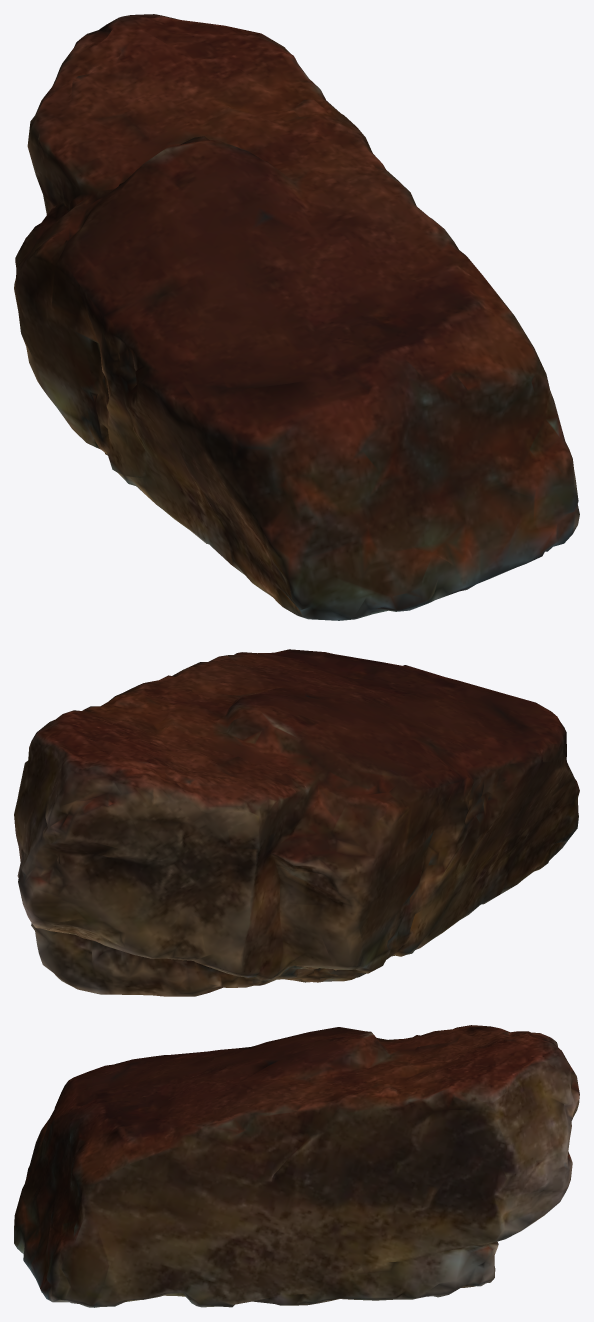
Rendered from rock_07.glb.
The picture shows the model from 3 angles, top to bottom: view 1: azimuth 30°, elevation 25°; view 2: azimuth 150°, elevation 25°; view 3: azimuth 270°, elevation 25°; orthographic projection. The views are drawn at different scales.
Parts seen in each view (by area): view 1: rock_07; view 2: rock_07; view 3: rock_07.
Boxes of the visible parts, x1,y1,x2,y2 form: rock_07: (14, 14, 579, 620); rock_07: (14, 649, 579, 996); rock_07: (14, 1025, 579, 1307).
Bounding box in the file's own units: 0.1686 × 0.1437 × 0.3199.
1 material, 1 textured.
